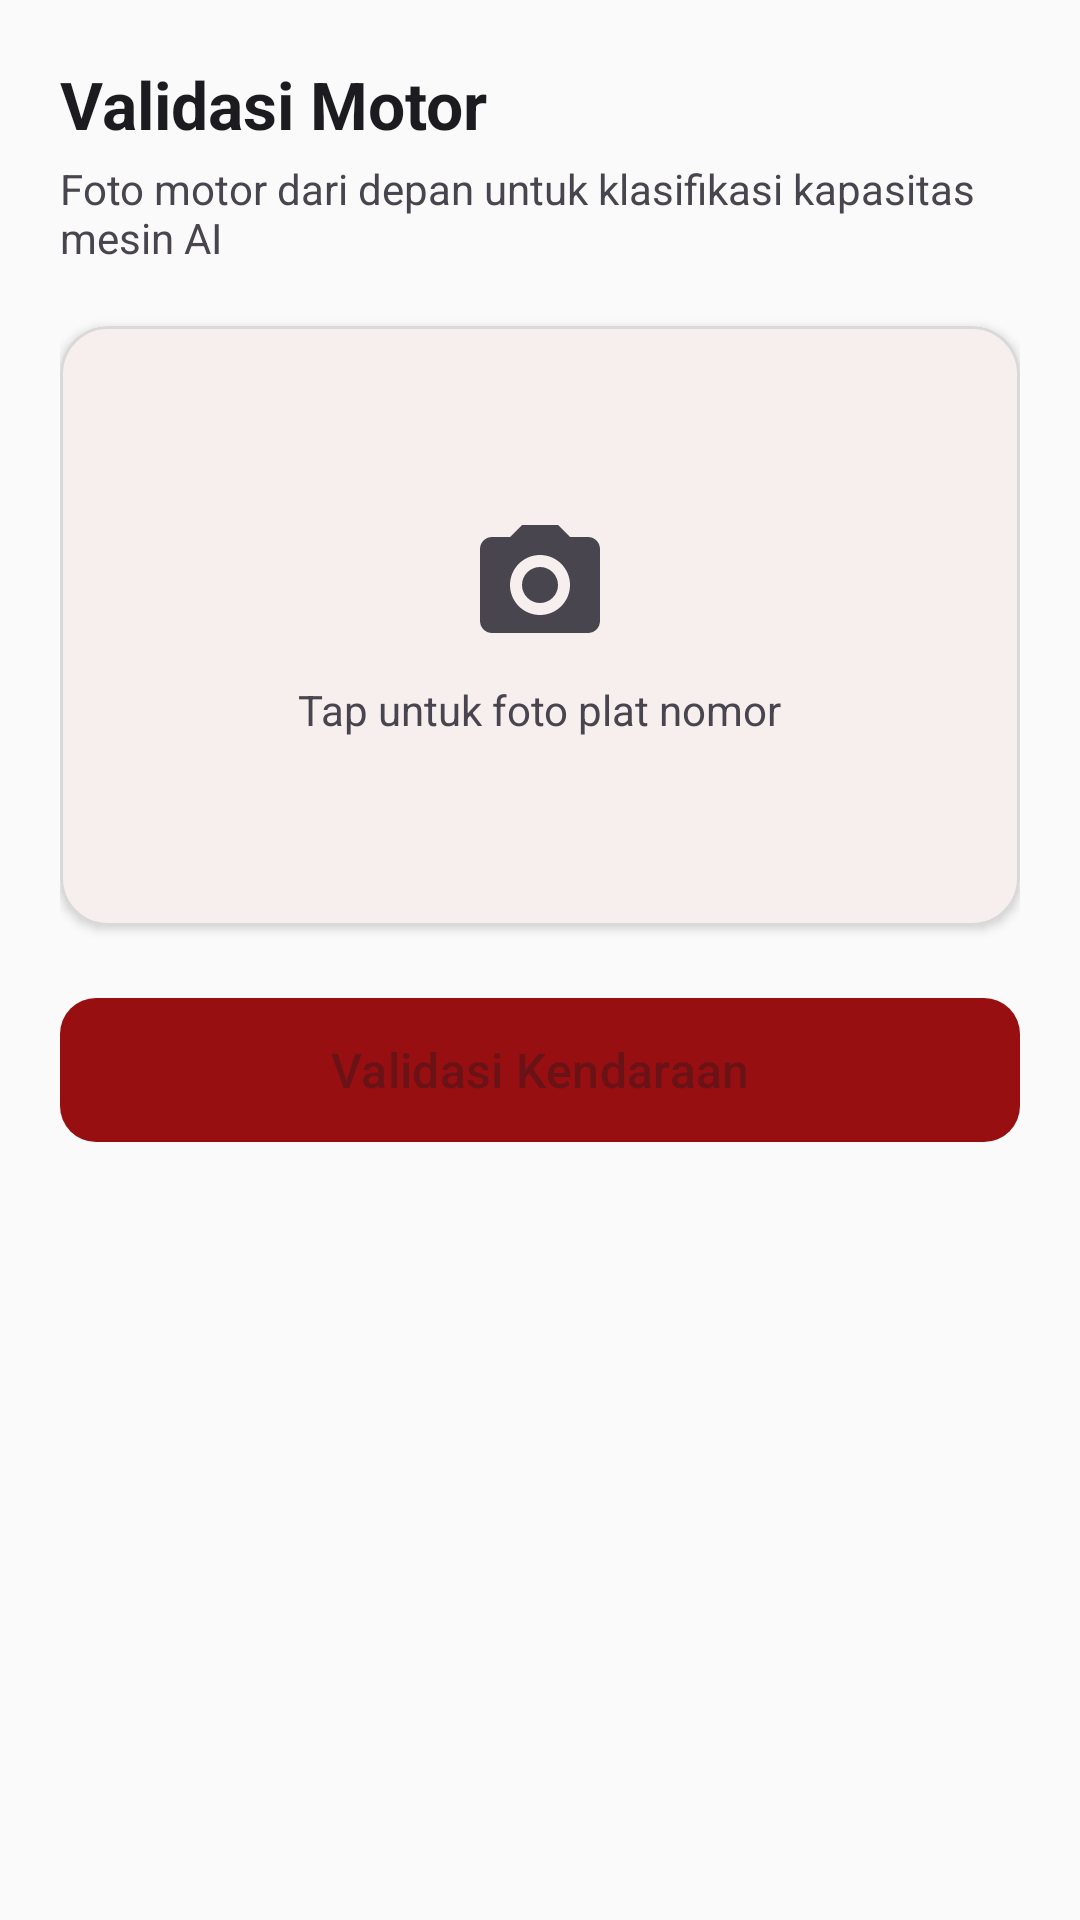

Where icons sit on this 1080*1920 app screen, as (x1, y1, x2, y2):
camera: (480, 525, 600, 633)
